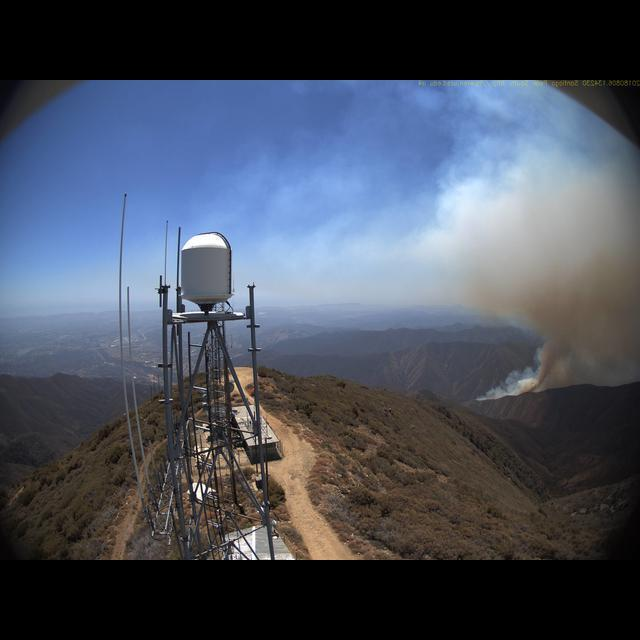Smoke: (439, 134, 638, 404)
